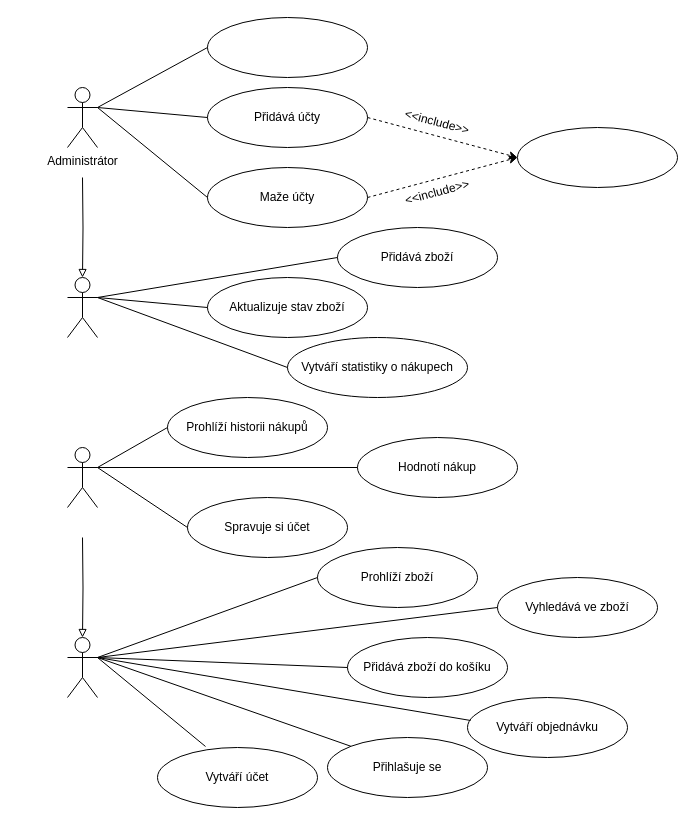
Some shapes in this 695 by 825 pixel diagram are drawn without their labels. The shapes that lost their labels are listed below. From the top down, each one's centre as x and y in pixels, then its label:
the point at 287,47: Přidává prodejce
the point at 597,157: Spravuje účty
the point at 82,307: Prodejce
the point at 82,477: Registrovaný zákazník
the point at 82,667: Neregistrovaný zákazník
